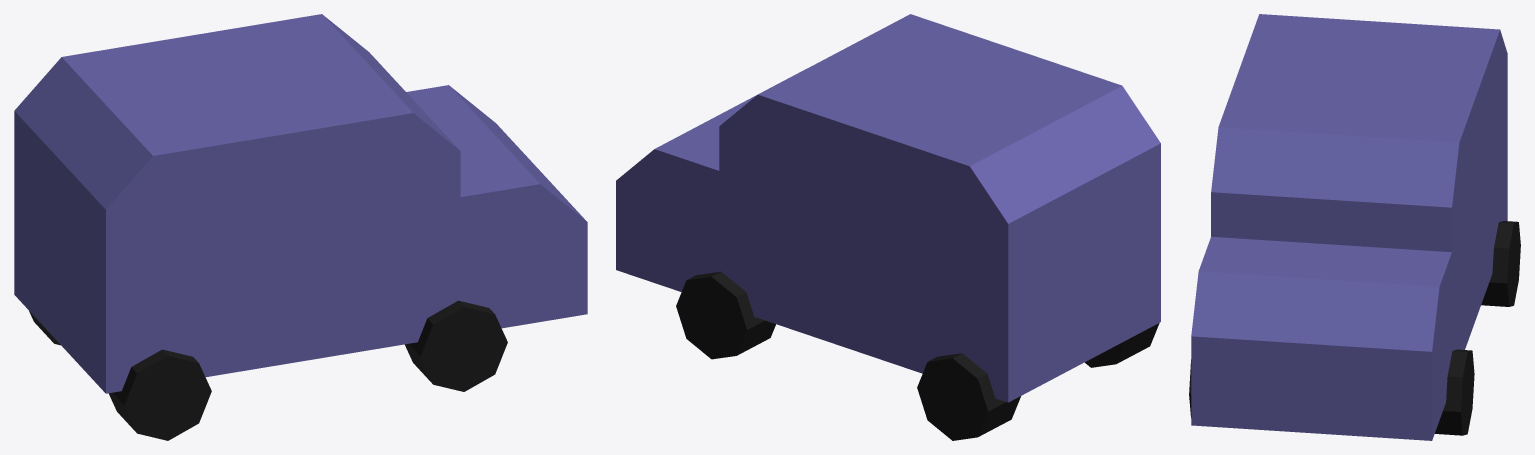
Rendered from Supermarket_Car3.fbx.
3 renders of one model, left to right at view 1: azimuth 30°, elevation 25°; view 2: azimuth 150°, elevation 25°; view 3: azimuth 270°, elevation 25°, orthographic. The views are drawn at different scales.
Parts seen in each view (by area): view 1: SuperMarket_Car3; view 2: SuperMarket_Car3; view 3: SuperMarket_Car3.
Boxes of the visible parts, x1,y1,x2,y2 form: SuperMarket_Car3: [14, 14, 587, 440]; SuperMarket_Car3: [616, 14, 1160, 440]; SuperMarket_Car3: [1189, 14, 1520, 440].
Bounding box in the file's own units: 25.33 × 14.25 × 15.8.
